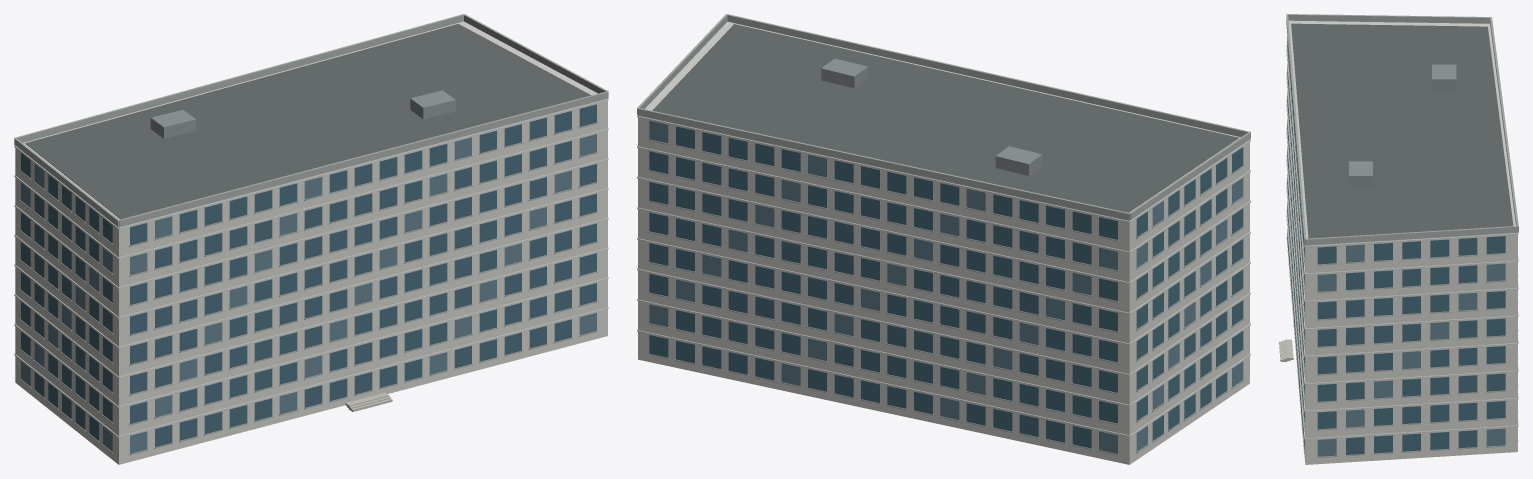
The model's file is 东侧办公园区-005.glb.
3 views of the same model, side by side, from view 1: azimuth 30°, elevation 25°; view 2: azimuth 150°, elevation 25°; view 3: azimuth 270°, elevation 25° (orthographic). The views are drawn at different scales.
Visible parts, largest first — view 1: 东侧办公园区-005; view 2: 东侧办公园区-005; view 3: 东侧办公园区-005.
Part boxes in pixels (left/top/right/bottom): 东侧办公园区-005: left=14, top=14, right=608, bottom=464; 东侧办公园区-005: left=637, top=14, right=1250, bottom=464; 东侧办公园区-005: left=1279, top=14, right=1518, bottom=464.
Size of the model in its own units: 61.62 by 29.42 by 27.67.
